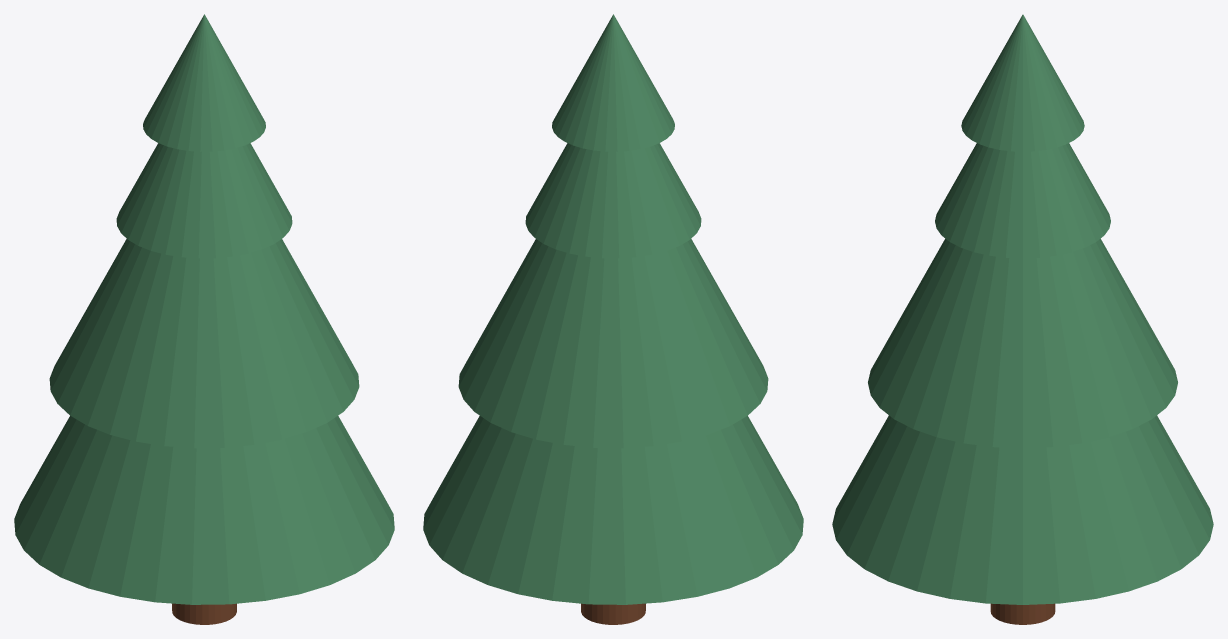
The model's file is pine tree MY ASSET.fbx.
3 renders of one model, left to right at view 1: azimuth 30°, elevation 25°; view 2: azimuth 150°, elevation 25°; view 3: azimuth 270°, elevation 25°, orthographic.
Parts seen in each view (by area): view 1: Cone.003, Cone.002, Cone.001, Cone, Cylinder; view 2: Cone.003, Cone.002, Cone.001, Cone, Cylinder; view 3: Cone.003, Cone.002, Cone.001, Cone, Cylinder.
Boxes of the visible parts, x1,y1,x2,y2 form: Cone.003: (14,416,394,604); Cone.002: (49,239,359,448); Cone.001: (116,143,292,258); Cone: (143,14,265,151); Cylinder: (172,603,236,624); Cone.003: (423,416,803,604); Cone.002: (458,239,768,448); Cone.001: (525,143,701,258); Cone: (552,14,674,151); Cylinder: (581,603,645,624); Cone.003: (832,415,1213,604); Cone.002: (868,238,1177,448); Cone.001: (935,143,1110,258); Cone: (961,14,1084,151); Cylinder: (990,603,1055,624).
Size of the model in its own units: 618 by 1068 by 618.
